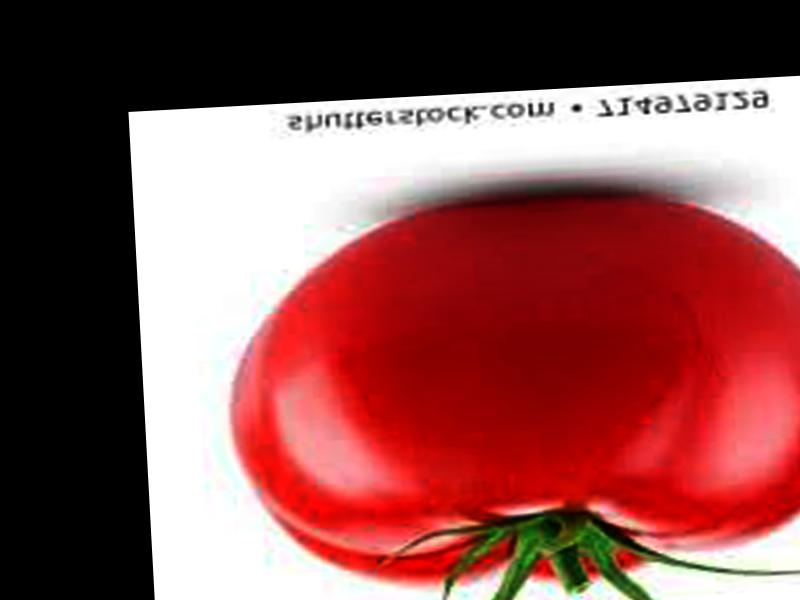Tomato: (218, 184, 800, 592)
